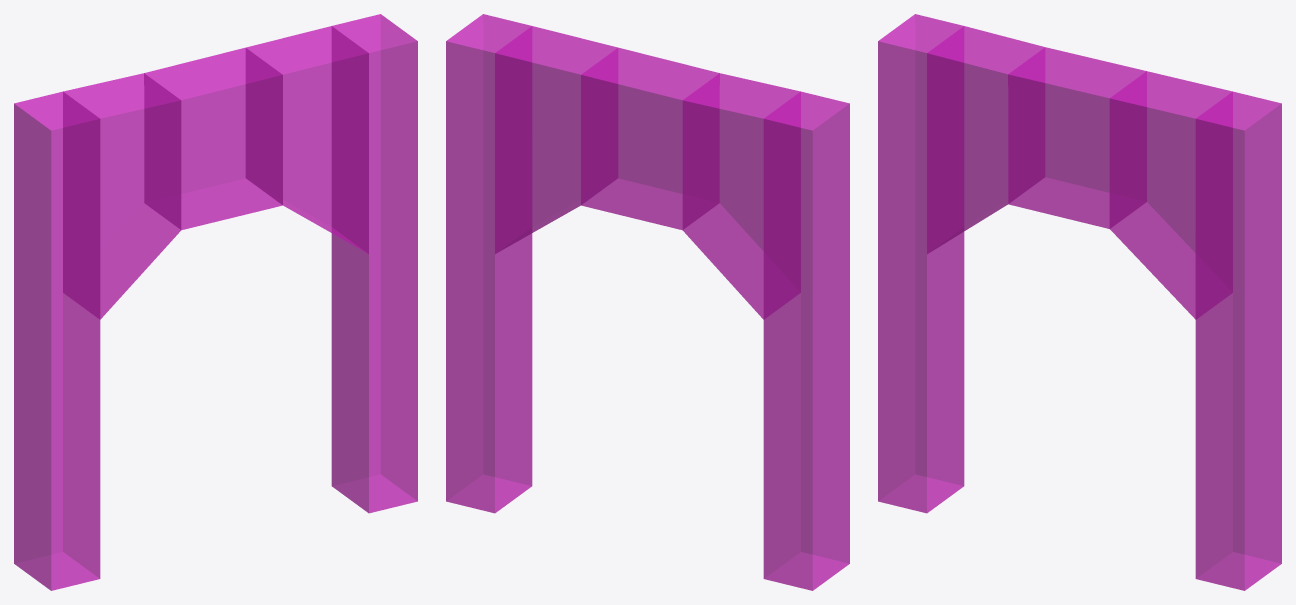
File: SM_Bld_Wall_Door_Double_02_Collision.fbx
3 renders of one model, left to right at view 1: azimuth 30°, elevation 25°; view 2: azimuth 150°, elevation 25°; view 3: azimuth 330°, elevation 25°, orthographic.
Visible parts, largest first — view 1: SM_Bld_Wall_Door_Double_02_Collision; view 2: SM_Bld_Wall_Door_Double_02_Collision; view 3: SM_Bld_Wall_Door_Double_02_Collision.
Boxes of the visible parts, box(x1,y1,x2,y2) form: SM_Bld_Wall_Door_Double_02_Collision: box(14, 14, 417, 590); SM_Bld_Wall_Door_Double_02_Collision: box(446, 14, 849, 590); SM_Bld_Wall_Door_Double_02_Collision: box(878, 14, 1281, 590).
Bounding box in the file's own units: 253 × 303 × 44.44.
